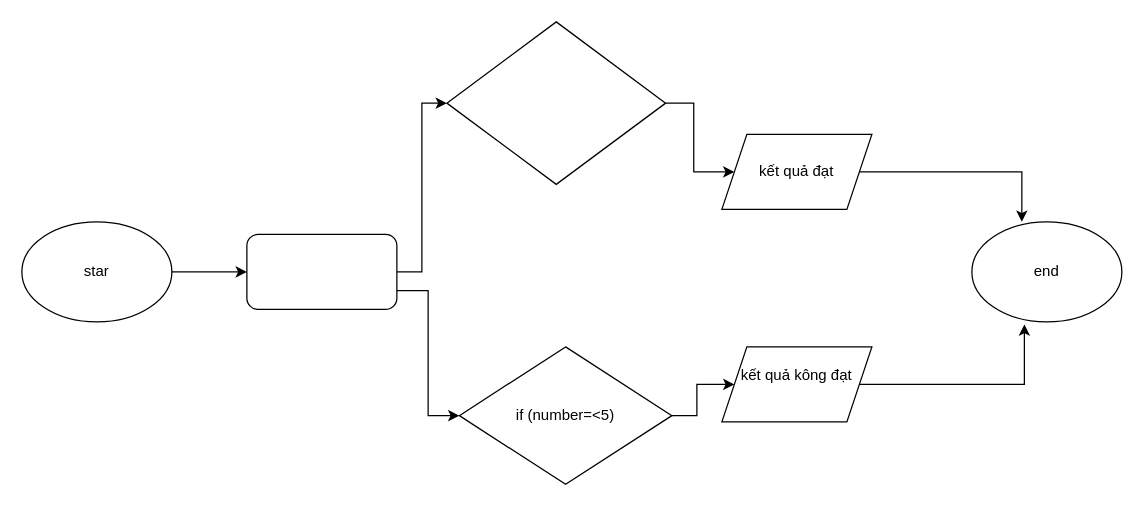
This 1144x506 diagram has some shape labels left out. The box of each missing label's shape, as (x1, y1, x2, y2) in pixels:
if ( number=>5): (446, 21, 666, 184)
nhập number: (246, 233, 397, 309)
